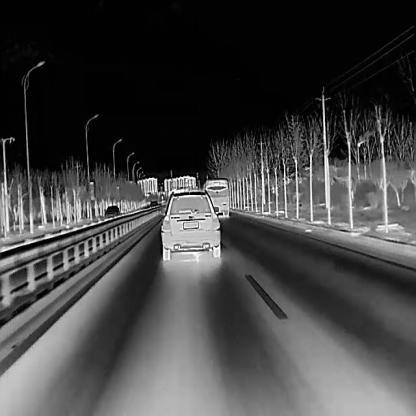car: (159, 187, 220, 260), (202, 177, 228, 218), (103, 203, 119, 219), (149, 199, 157, 209)
